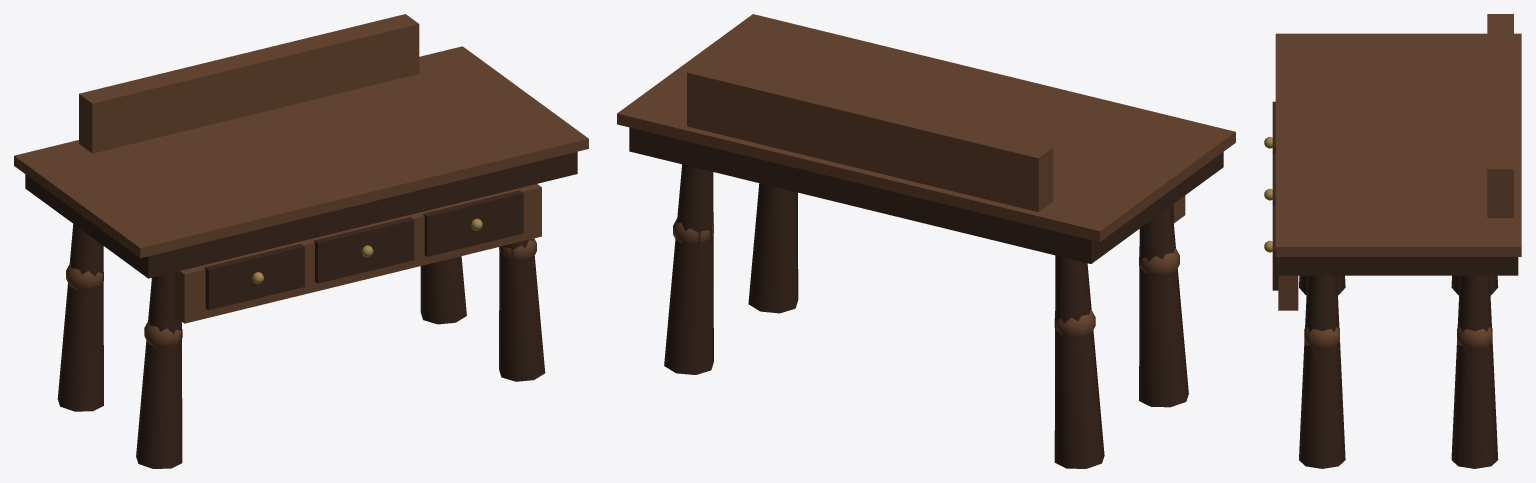
The model's file is writing_desk.glb.
3 renders of one model, left to right at view 1: azimuth 30°, elevation 25°; view 2: azimuth 150°, elevation 25°; view 3: azimuth 270°, elevation 25°, orthographic. The views are drawn at different scales.
Size of the model in its own units: 1.62 by 1 by 0.8256.
